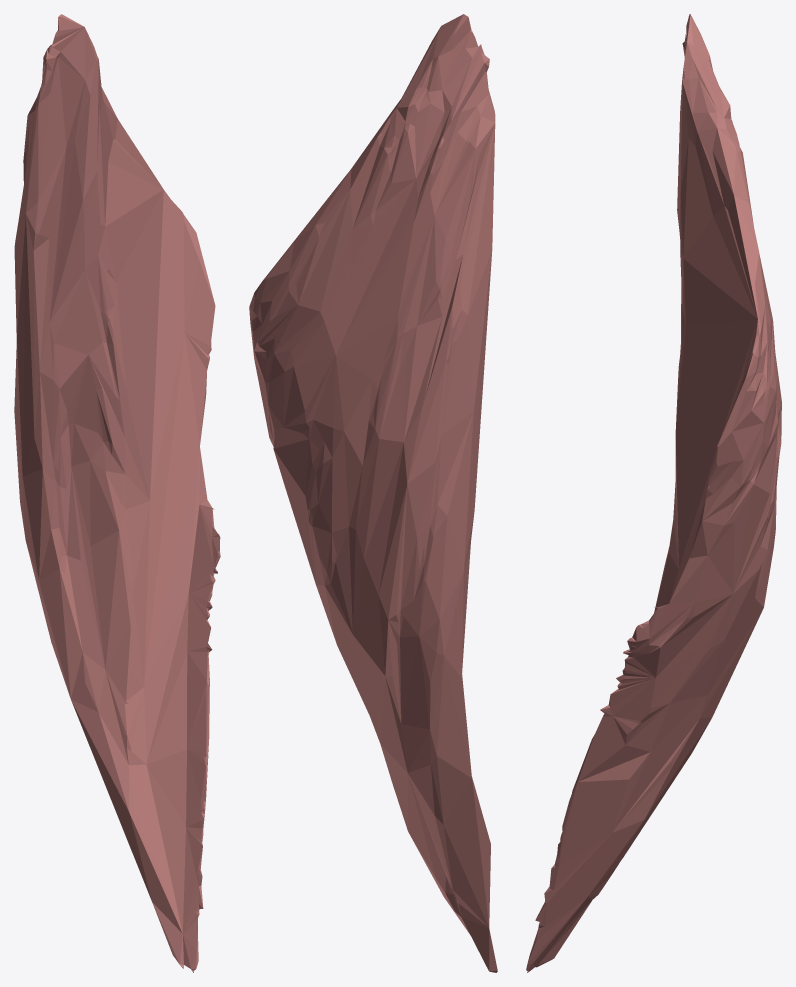
Rendered from elbow-muscle.glb.
3 views of the same model, side by side, from view 1: azimuth 30°, elevation 25°; view 2: azimuth 150°, elevation 25°; view 3: azimuth 270°, elevation 25° (orthographic). The views are drawn at different scales.
Parts seen in each view (by area): view 1: anconeus__BP4802; view 2: anconeus__BP4802; view 3: anconeus__BP4802.
Boxes of the visible parts, left/top/right/bottom form: anconeus__BP4802: left=14, top=14, right=220, bottom=972; anconeus__BP4802: left=249, top=14, right=497, bottom=972; anconeus__BP4802: left=526, top=14, right=781, bottom=972.
Bounding box in the file's own units: 0.2297 × 1.01 × 0.252.
